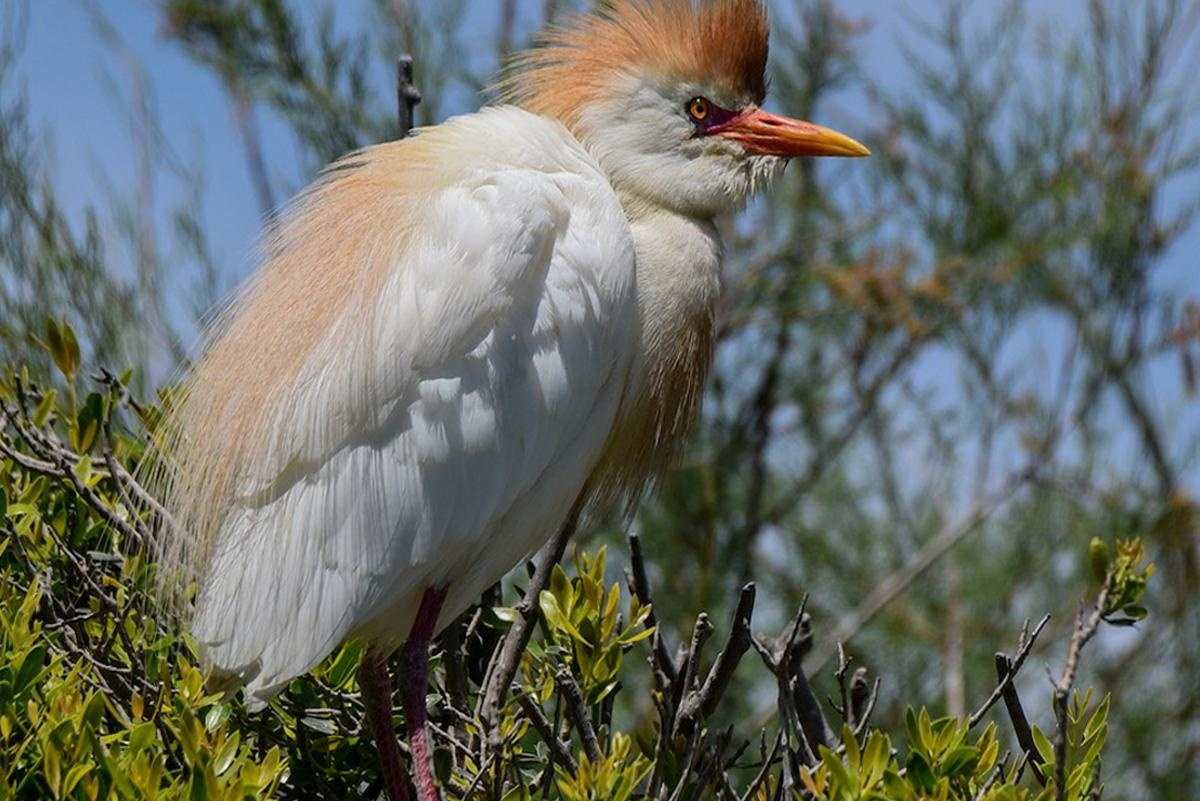egret: (164, 5, 863, 759)
